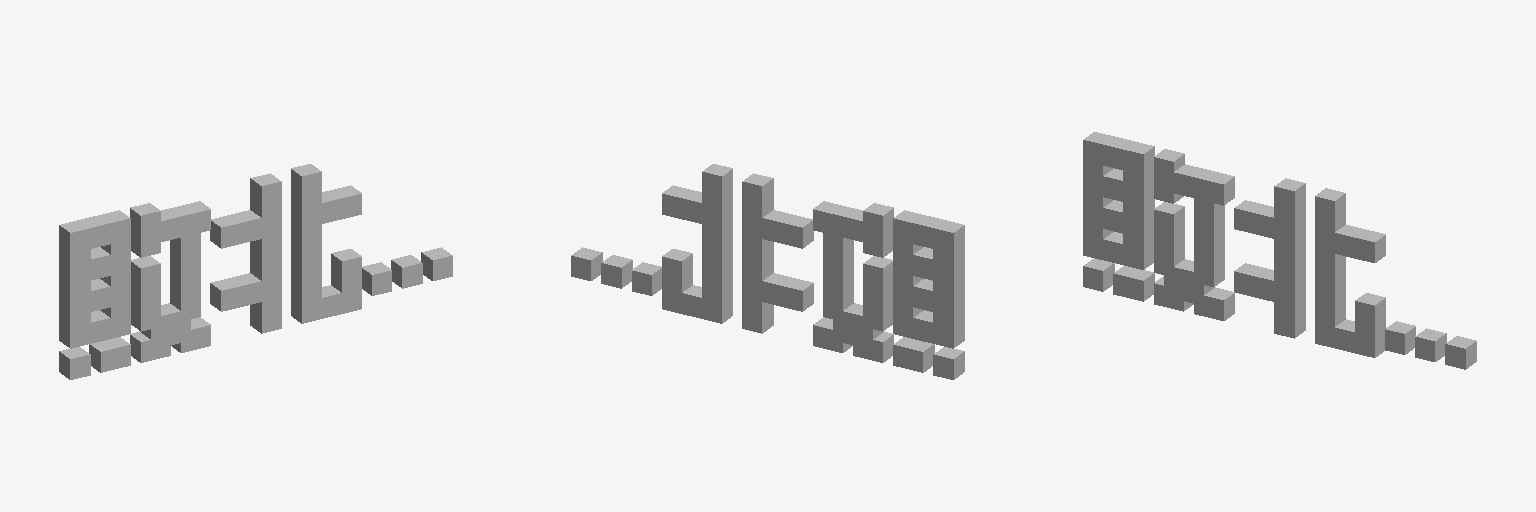
Rendered from lose.obj.
3 views of the same model, side by side, from view 1: azimuth 30°, elevation 25°; view 2: azimuth 150°, elevation 25°; view 3: azimuth 330°, elevation 25° (orthographic).
Parts seen in each view (by area): view 1: 敗北...; view 2: 敗北...; view 3: 敗北....
Part boxes in pixels (left/top/right/bottom): 敗北...: left=59, top=164, right=452, bottom=379; 敗北...: left=571, top=164, right=964, bottom=379; 敗北...: left=1083, top=132, right=1476, bottom=369.
Size of the model in its own units: 1.19 by 0.4375 by 0.06.